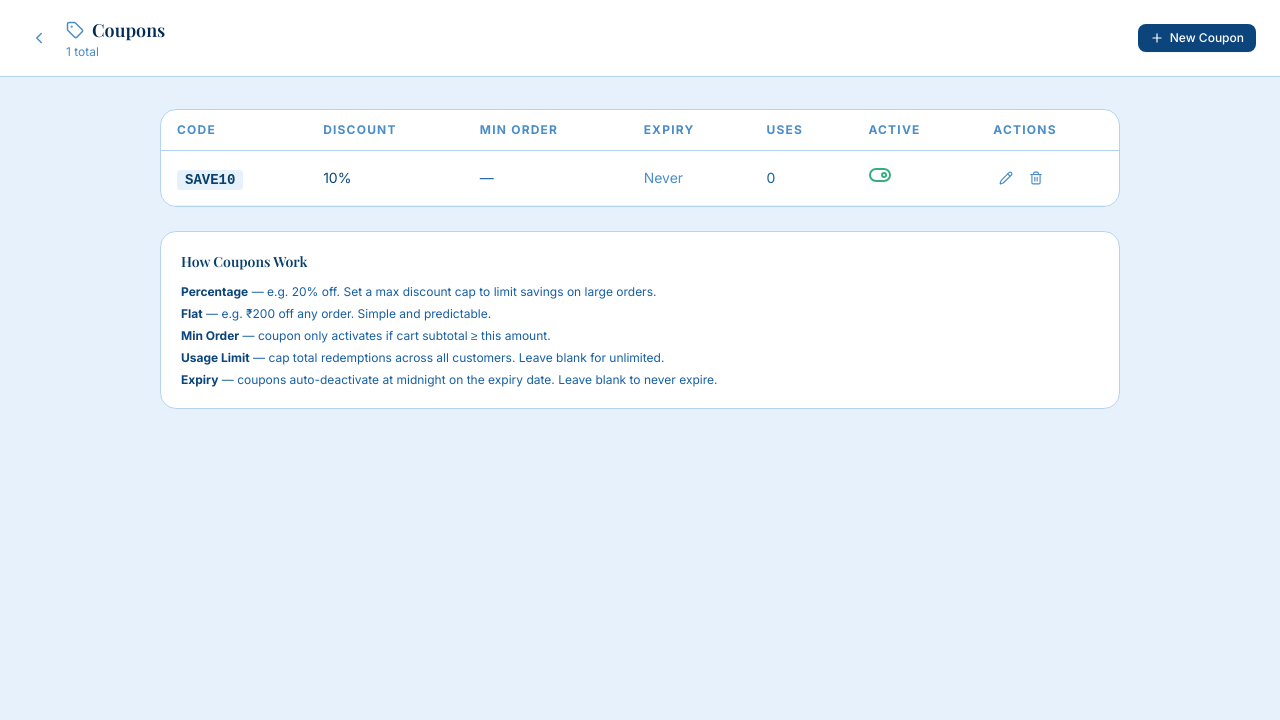
Test case: AdminCouponsPage › opens the edit modal pre-filled with coupon data
Expected: the text "SAVE10" is shown, left=177, top=170, right=243, bottom=190
Click the button named "Edit SAVE10" at (1006, 178), box left=993, top=165, right=1019, bottom=191
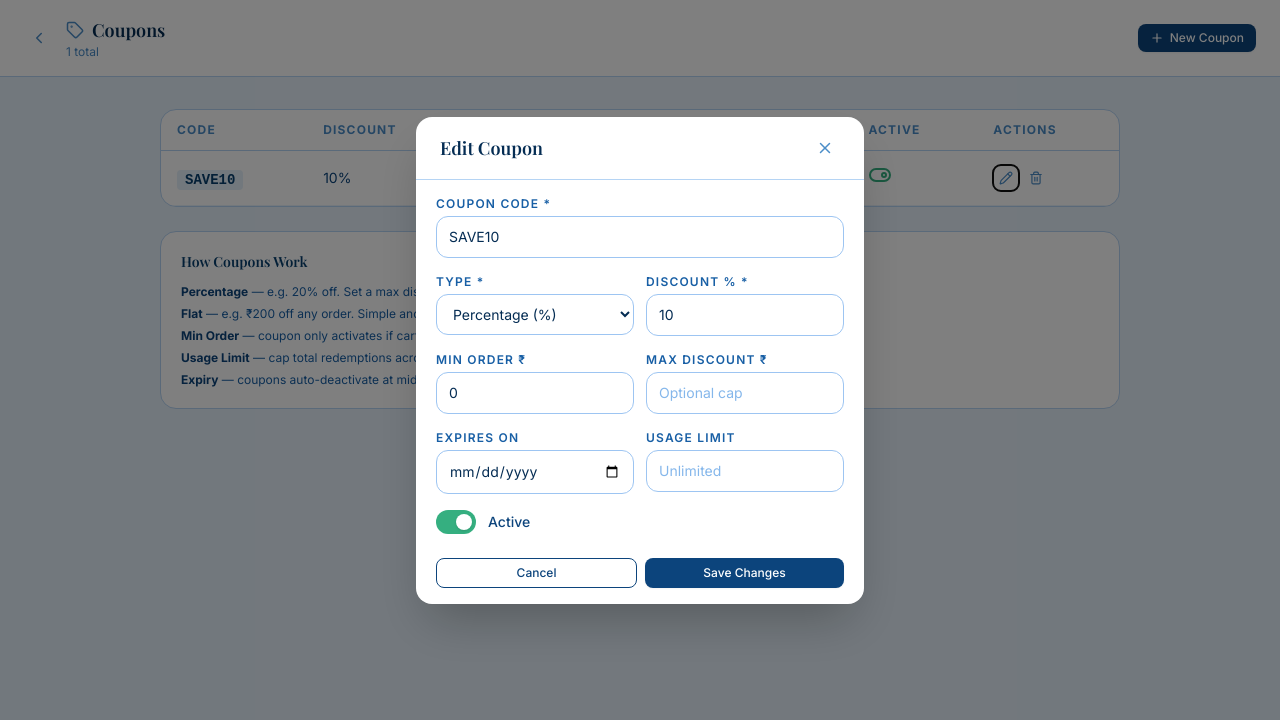
Expected: the heading "Edit Coupon" is shown, left=440, top=134, right=543, bottom=162
Expected: the field with placeholder "DIVYA20" holds "SAVE10", left=436, top=216, right=844, bottom=258
